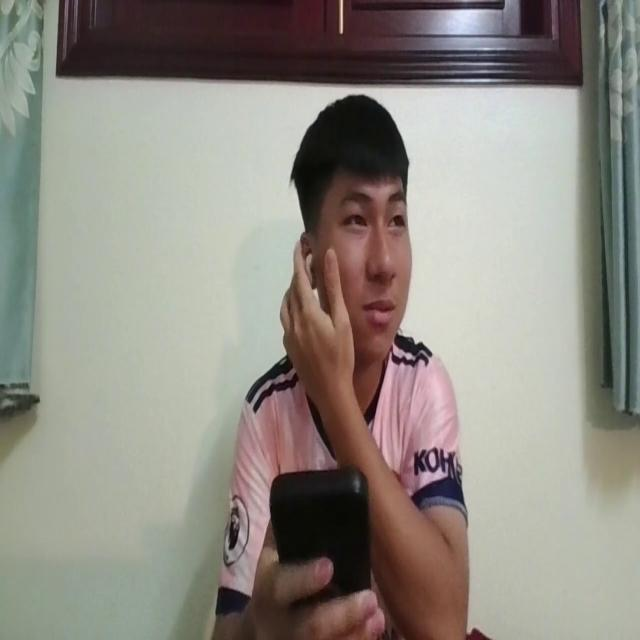phone: (270, 454, 371, 600)
student: (207, 90, 473, 640)
